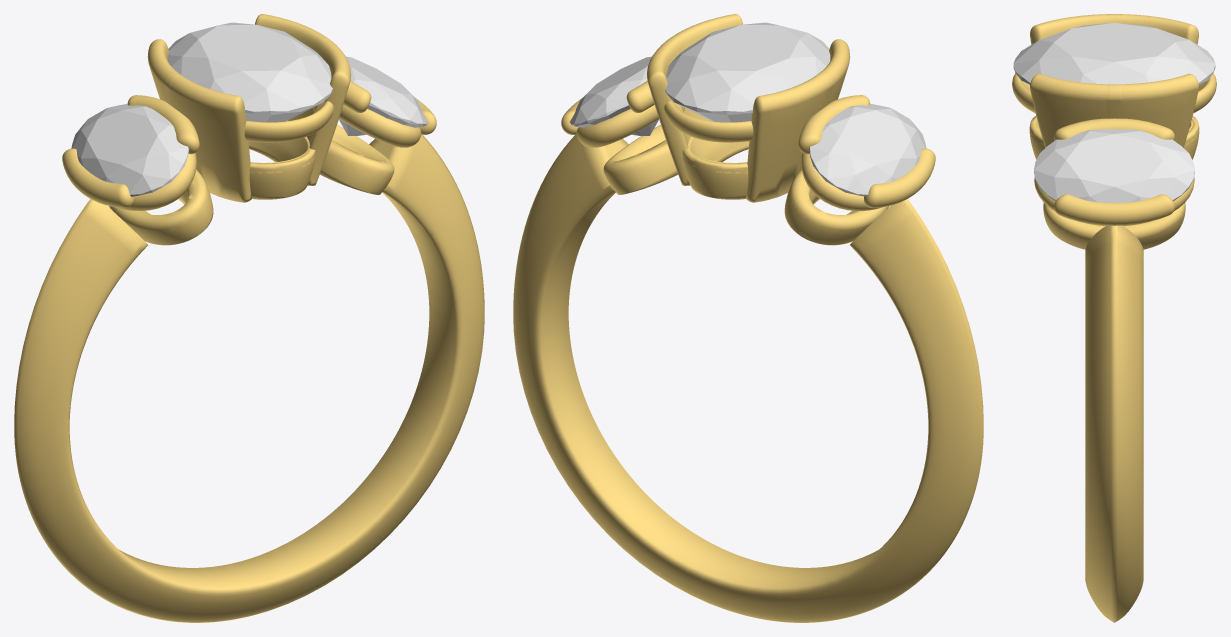
File: diamond-oval-yellowgold-halfmoonbezel-knifeedge-3stone.glb
3 views of the same model, side by side, from view 1: azimuth 30°, elevation 25°; view 2: azimuth 150°, elevation 25°; view 3: azimuth 270°, elevation 25° (orthographic). The views are drawn at different scales.
Visible parts, largest first — view 1: metal, stone.003, side.006, side.007; view 2: metal, stone.003, side.006, side.007; view 3: metal, side.007, stone.003.
Boxes of the visible parts, bbox=[...] form: metal: bbox=[14, 14, 484, 622]; stone.003: bbox=[167, 22, 332, 122]; side.006: bbox=[71, 103, 189, 196]; side.007: bbox=[339, 56, 427, 135]; metal: bbox=[513, 14, 983, 622]; stone.003: bbox=[665, 22, 830, 122]; side.006: bbox=[808, 103, 926, 196]; side.007: bbox=[570, 56, 658, 135]; metal: bbox=[1012, 14, 1216, 622]; side.007: bbox=[1034, 129, 1194, 202]; stone.003: bbox=[1013, 22, 1215, 84].
Size of the model in its own units: 20.1 by 23.2 by 7.75.
